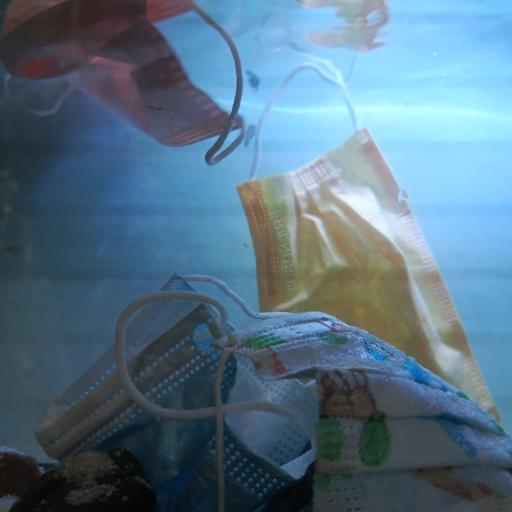mask: (232, 59, 502, 427), (33, 271, 317, 510), (210, 308, 512, 511), (0, 0, 249, 169)
